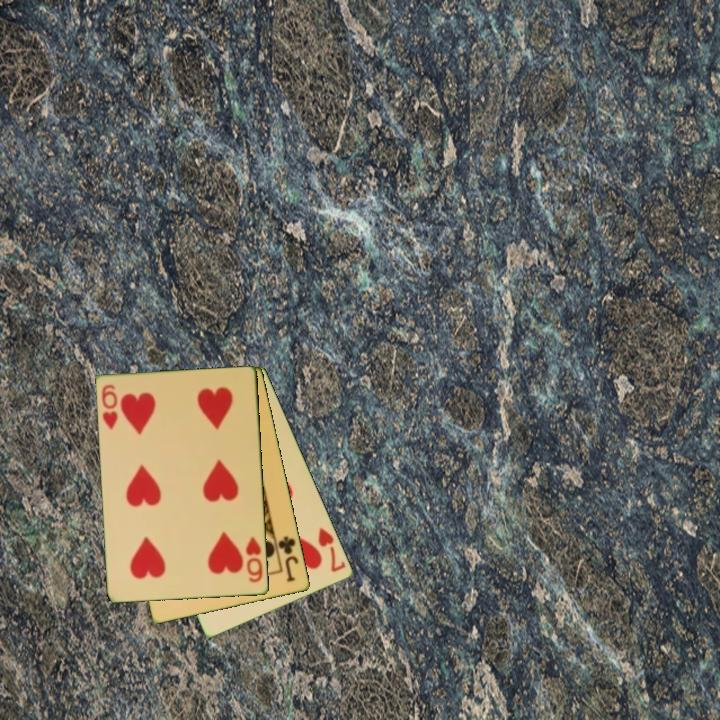6h: (242, 534, 266, 585), (98, 381, 121, 432)
7h: (315, 524, 349, 575)
Jc: (272, 533, 301, 585)
